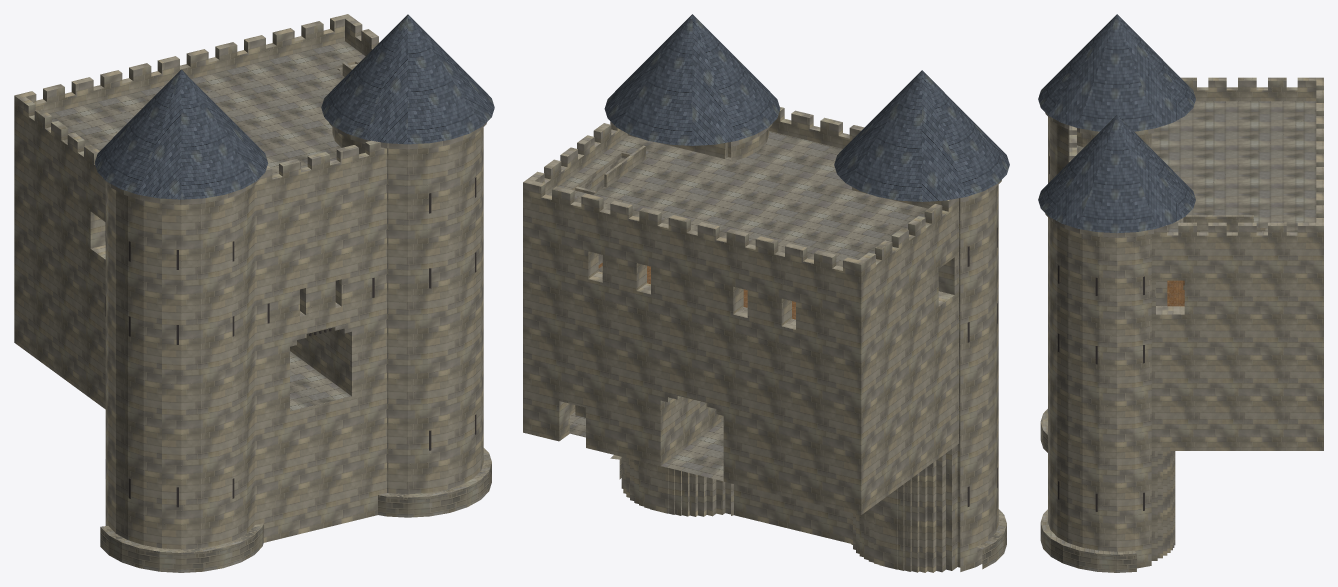
The model's file is fort-gatehouse.zfix-v9.lod0.glb.
3 renders of one model, left to right at view 1: azimuth 30°, elevation 25°; view 2: azimuth 150°, elevation 25°; view 3: azimuth 270°, elevation 25°, orthographic. The views are drawn at different scales.
Visible parts, largest first — view 1: fort-gatehouse; view 2: fort-gatehouse; view 3: fort-gatehouse.
Part boxes in pixels (x1,y1,x2,y2): fort-gatehouse: (14,14,494,572); fort-gatehouse: (523,14,1009,572); fort-gatehouse: (1038,14,1323,572).
Bounding box in the file's own units: 31.6 × 37.5 × 22.8.
Materials: 6 (5 with a texture image).
